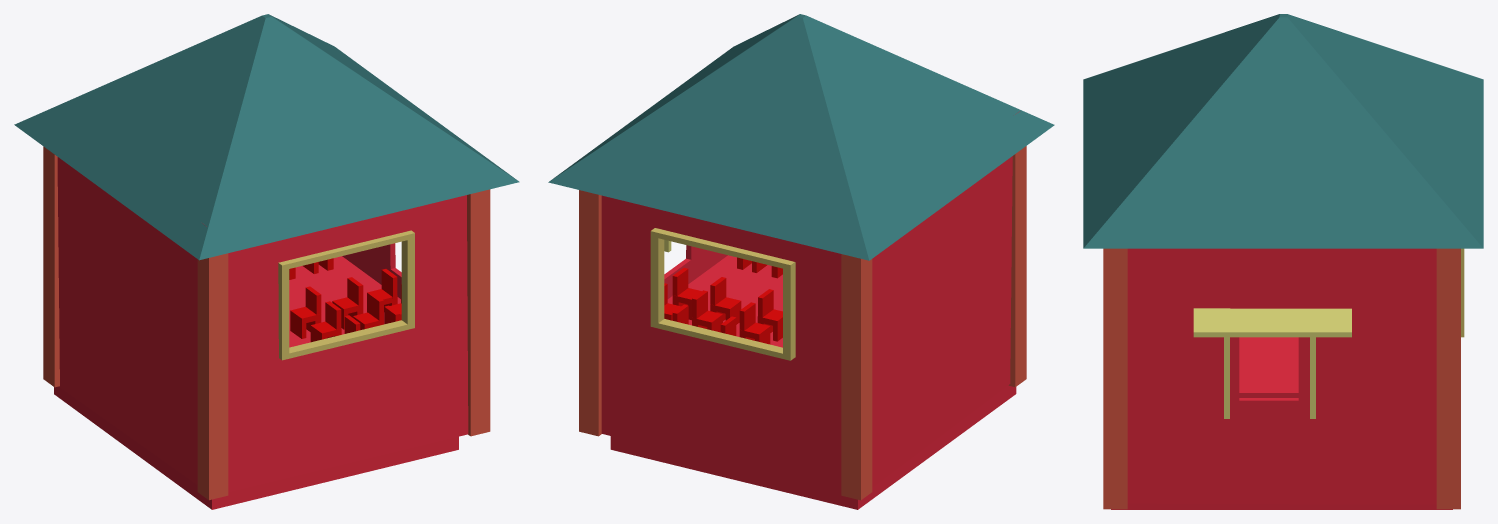
The model's file is DMV.fbx.
The picture shows the model from 3 angles, left to right: view 1: azimuth 30°, elevation 25°; view 2: azimuth 150°, elevation 25°; view 3: azimuth 270°, elevation 25°; orthographic projection. The views are drawn at different scales.
Visible parts, largest first — view 1: pCube280, pCube1, pCube3, pCube279, pCube284, pCube281, pCube287, pCube283, pCube6, pCube54; view 2: pCube280, pCube2, pCube3, pCube279, pCube283, pCube282, pCube288, pCube284, pCube6; view 3: pCube280, pCube6, pCube281, pCube282, pCube279, pCube9, pCube7, pCube8.
Part boxes in pixels (box(x1,y1,x2,y2)): pCube280: box(14, 14, 519, 260); pCube1: box(228, 195, 468, 492); pCube3: box(57, 157, 206, 484); pCube279: box(54, 256, 458, 509); pCube284: box(197, 253, 228, 500); pCube281: box(467, 189, 490, 436); pCube287: box(278, 230, 414, 360); pCube283: box(43, 146, 59, 387); pCube6: box(342, 243, 401, 298); pCube54: box(290, 306, 321, 338); pCube280: box(548, 14, 1054, 260); pCube2: box(601, 195, 841, 491); pCube3: box(872, 111, 1019, 487); pCube279: box(610, 255, 1016, 509); pCube283: box(841, 254, 872, 500); pCube282: box(579, 190, 601, 436); pCube288: box(650, 228, 795, 360); pCube284: box(1008, 146, 1026, 387); pCube6: box(664, 245, 727, 298); pCube280: box(1083, 14, 1483, 248); pCube6: box(1127, 248, 1436, 504); pCube281: box(1103, 248, 1127, 509); pCube282: box(1436, 248, 1460, 509); pCube279: box(1111, 337, 1452, 509); pCube9: box(1193, 308, 1351, 337); pCube7: box(1224, 337, 1229, 418); pCube8: box(1310, 337, 1315, 418).
Bounding box in the file's own units: 17.41 × 19.68 × 16.4.
